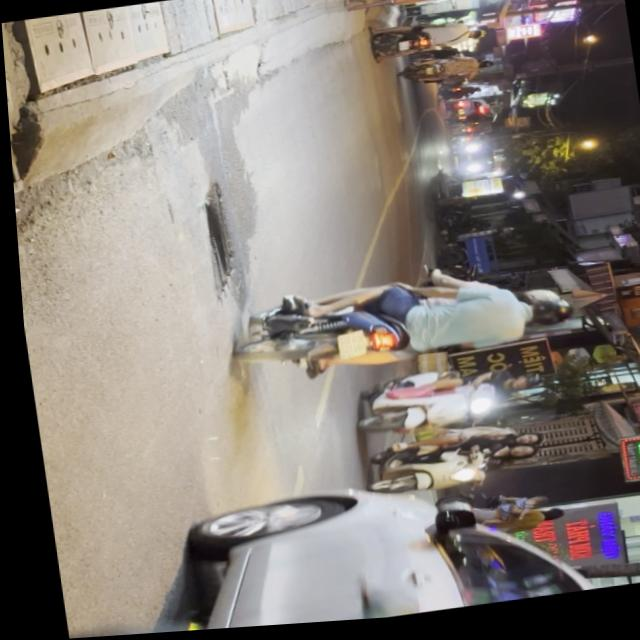helmet: (517, 305, 568, 337), (512, 293, 562, 320), (502, 433, 540, 455), (504, 379, 537, 398)
licenseplate: (222, 261, 575, 393), (345, 419, 548, 509), (344, 360, 544, 445)
motorcyclist: (496, 448, 533, 470)
nohelmet: (331, 334, 363, 363)
